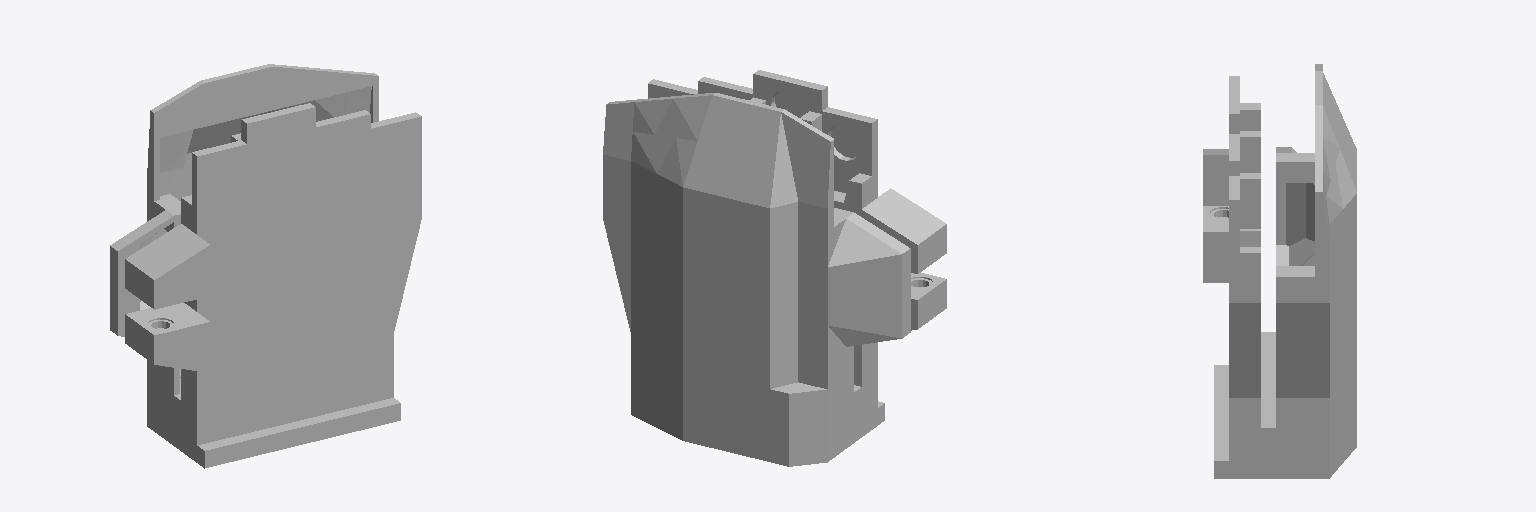
File: palm_pinch_l.obj
3 views of the same model, side by side, from view 1: azimuth 30°, elevation 25°; view 2: azimuth 150°, elevation 25°; view 3: azimuth 270°, elevation 25° (orthographic).
Size of the model in its own units: 100 by 114 by 47.75.